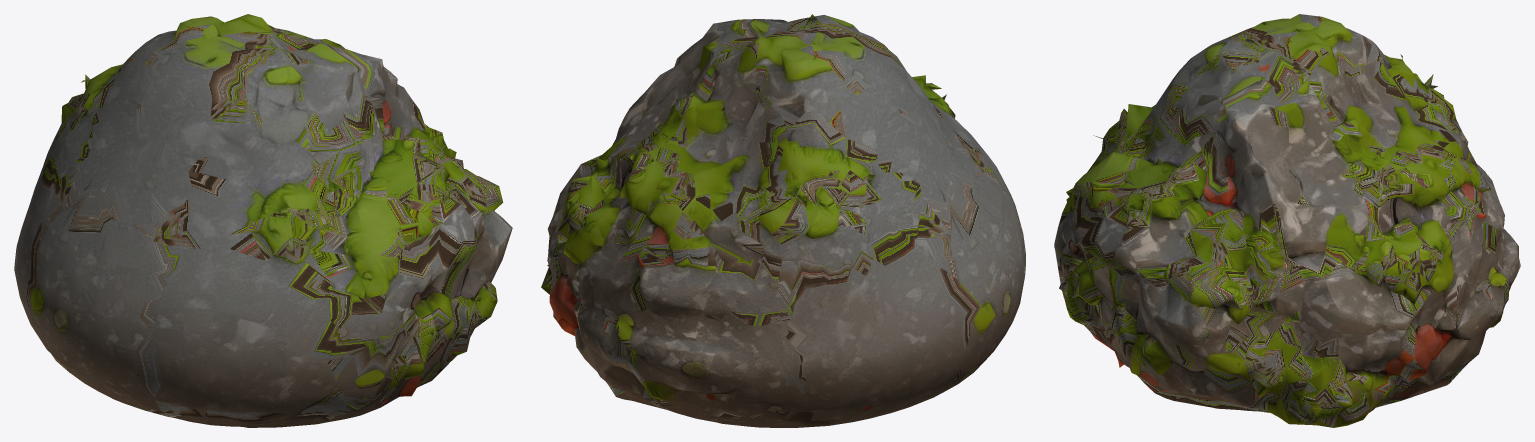
Rendered from iron_ore_rock_01.glb.
3 views of the same model, side by side, from view 1: azimuth 30°, elevation 25°; view 2: azimuth 150°, elevation 25°; view 3: azimuth 270°, elevation 25° (orthographic). The views are drawn at different scales.
Visible parts, largest first — view 1: tripo_node_911b60a2-70ff-4ce8-a3b7-68f07ca89510; view 2: tripo_node_911b60a2-70ff-4ce8-a3b7-68f07ca89510; view 3: tripo_node_911b60a2-70ff-4ce8-a3b7-68f07ca89510.
Boxes of the visible parts, <box> form: tripo_node_911b60a2-70ff-4ce8-a3b7-68f07ca89510: <box>14,14,512,427</box>; tripo_node_911b60a2-70ff-4ce8-a3b7-68f07ca89510: <box>541,14,1025,427</box>; tripo_node_911b60a2-70ff-4ce8-a3b7-68f07ca89510: <box>1054,14,1520,427</box>.
Size of the model in its own units: 0.9869 by 0.7702 by 0.9915.
Materials: 1 (1 with a texture image).
